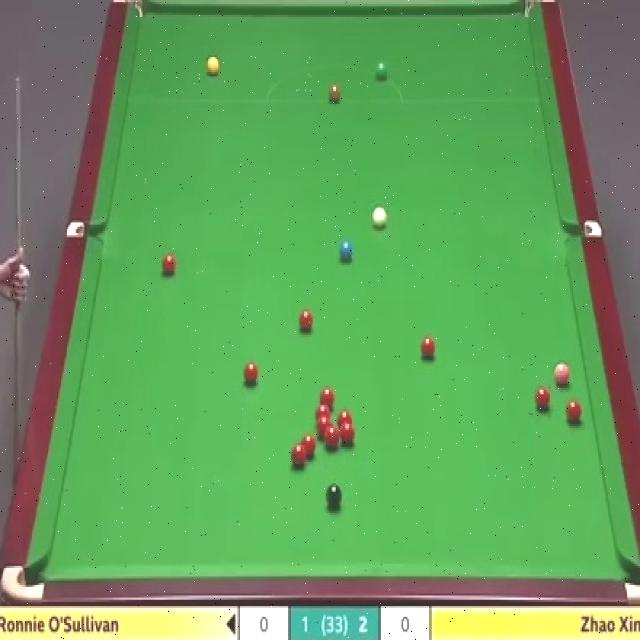black-ball: (326, 482, 342, 512)
blue-ball: (338, 238, 354, 261)
brown-ball: (328, 82, 341, 104)
green-ball: (374, 61, 388, 81)
pink-ball: (554, 360, 570, 388)
red-ball: (242, 360, 260, 389), (301, 436, 319, 461), (339, 422, 356, 448), (566, 400, 584, 424), (290, 444, 307, 469), (536, 386, 553, 411), (421, 334, 436, 360), (298, 310, 314, 332), (162, 253, 176, 277), (325, 424, 339, 448), (318, 387, 335, 405), (316, 417, 331, 437), (316, 403, 330, 420), (338, 412, 352, 426)
white-ball: (371, 204, 387, 232)
yellow-ball: (207, 57, 221, 78)
